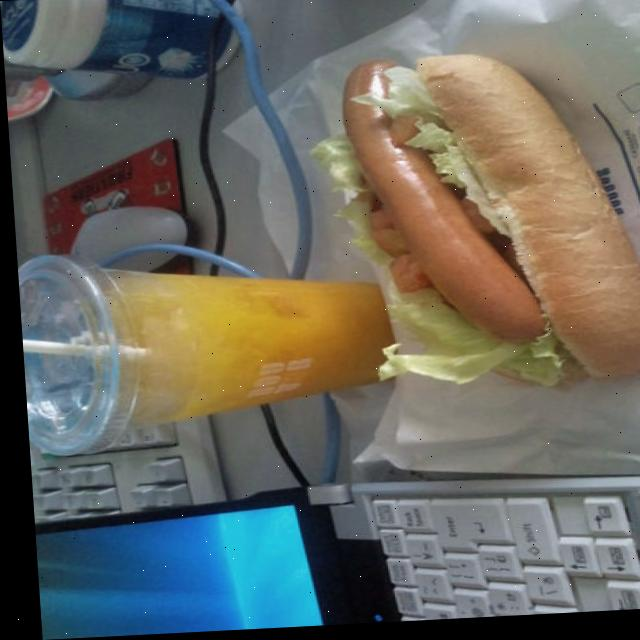汉堡快餐: (425, 164, 640, 466)
